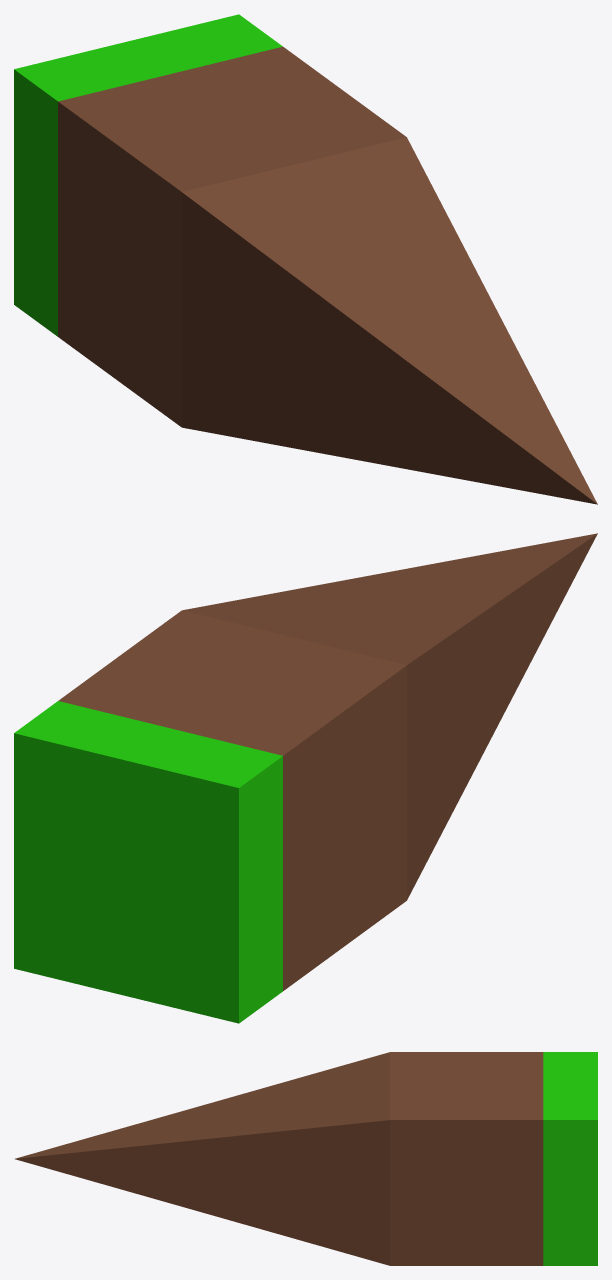
Rendered from piso.fbx.
The picture shows the model from 3 angles, top to bottom: view 1: azimuth 30°, elevation 25°; view 2: azimuth 150°, elevation 25°; view 3: azimuth 270°, elevation 25°; orthographic projection. The views are drawn at different scales.
Visible parts, largest first — view 1: Piso; view 2: Piso; view 3: Piso.
Part boxes in pixels (x1=…): Piso: x1=14, y1=14, x2=597, y2=504; Piso: x1=14, y1=533, x2=597, y2=1023; Piso: x1=15, y1=1052, x2=597, y2=1265.
Size of the model in its own units: 200 by 200 by 726.
